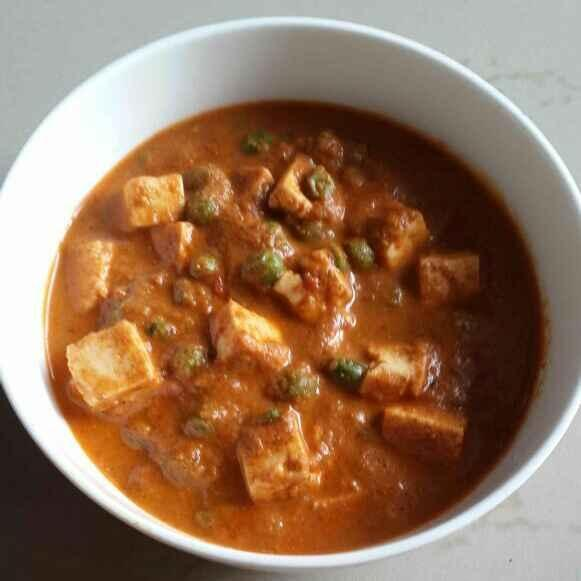paneer: (129, 161, 422, 440)
